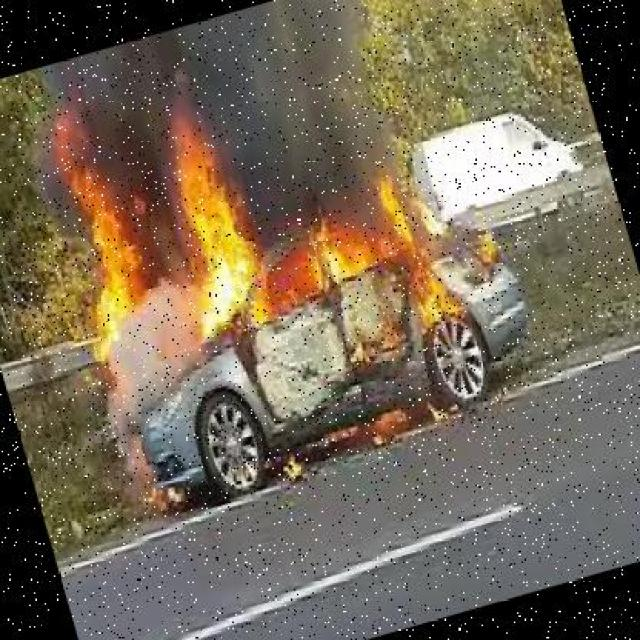fire: (14, 49, 280, 368), (243, 143, 469, 374)
